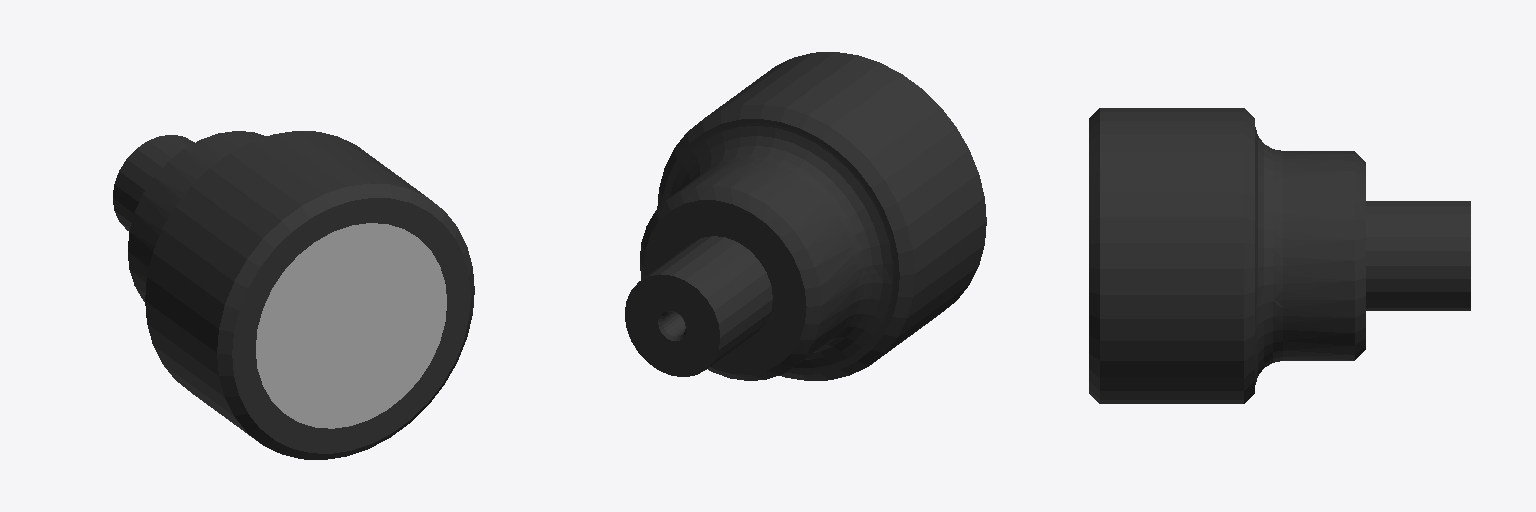
3 views of the same model, side by side, from view 1: azimuth 30°, elevation 25°; view 2: azimuth 150°, elevation 25°; view 3: azimuth 270°, elevation 25° (orthographic).
Visible parts, largest first — view 1: gn_3663-27-m3-0_7_1; view 2: gn_3663-27-m3-0_7_1; view 3: gn_3663-27-m3-0_7_1.
Part boxes in pixels (left/top/right/bottom): gn_3663-27-m3-0_7_1: left=113, top=131, right=474, bottom=459; gn_3663-27-m3-0_7_1: left=625, top=52, right=986, bottom=380; gn_3663-27-m3-0_7_1: left=1089, top=108, right=1470, bottom=403.
Bounding box in the file's own units: 26.9 × 26.9 × 34.5.